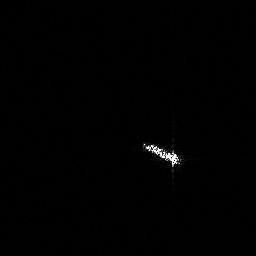ship: (139, 139, 184, 168)
